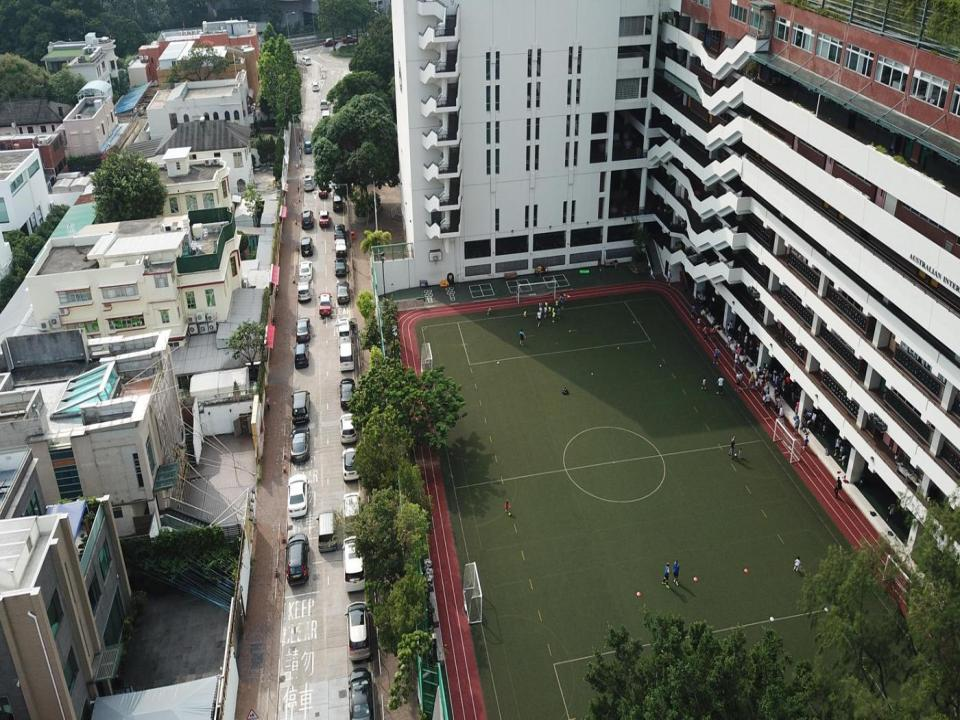car: (349, 667, 372, 719), (287, 474, 308, 518), (342, 492, 362, 532), (290, 426, 310, 463), (341, 448, 360, 481), (339, 378, 356, 411), (341, 414, 357, 444), (337, 317, 351, 347), (296, 318, 310, 344), (318, 292, 332, 317), (336, 280, 350, 304), (298, 278, 311, 300), (299, 260, 312, 282), (318, 172, 328, 199), (334, 256, 346, 278), (302, 174, 314, 191), (335, 238, 346, 255), (334, 223, 344, 241), (320, 210, 329, 228), (342, 35, 358, 43), (324, 38, 338, 47), (304, 141, 312, 154), (320, 99, 329, 110), (795, 397, 800, 416), (311, 80, 318, 93)
van: (346, 602, 371, 662), (342, 536, 366, 592), (287, 532, 309, 586), (317, 510, 338, 554), (291, 390, 309, 426), (339, 343, 353, 372), (294, 343, 308, 370), (301, 210, 313, 230), (301, 238, 313, 258), (332, 190, 342, 213), (322, 109, 331, 126), (300, 56, 312, 66)
